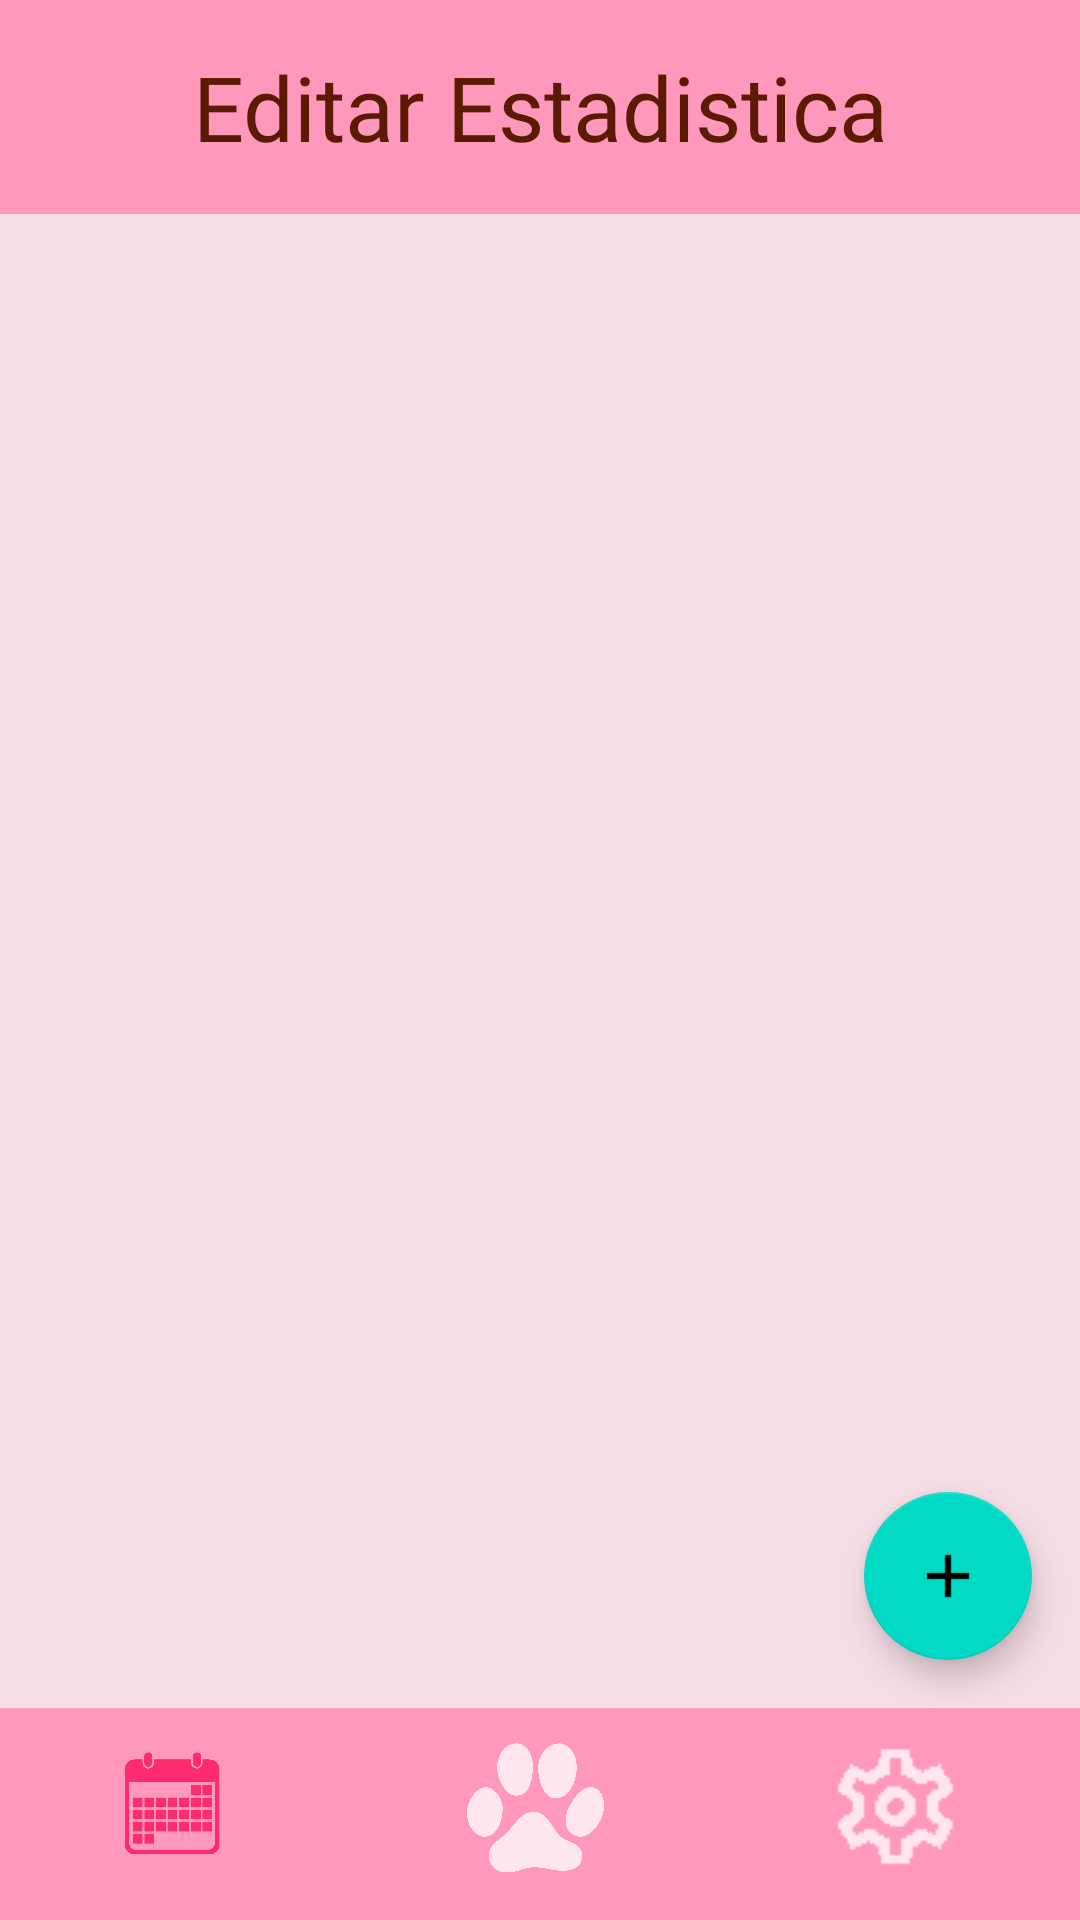

Icons on this 1080 x 1920 Android screen, each with the point to tap as (x,y):
calendarselected: (172,1803)
plus: (948,1576)
setting: (895,1806)
